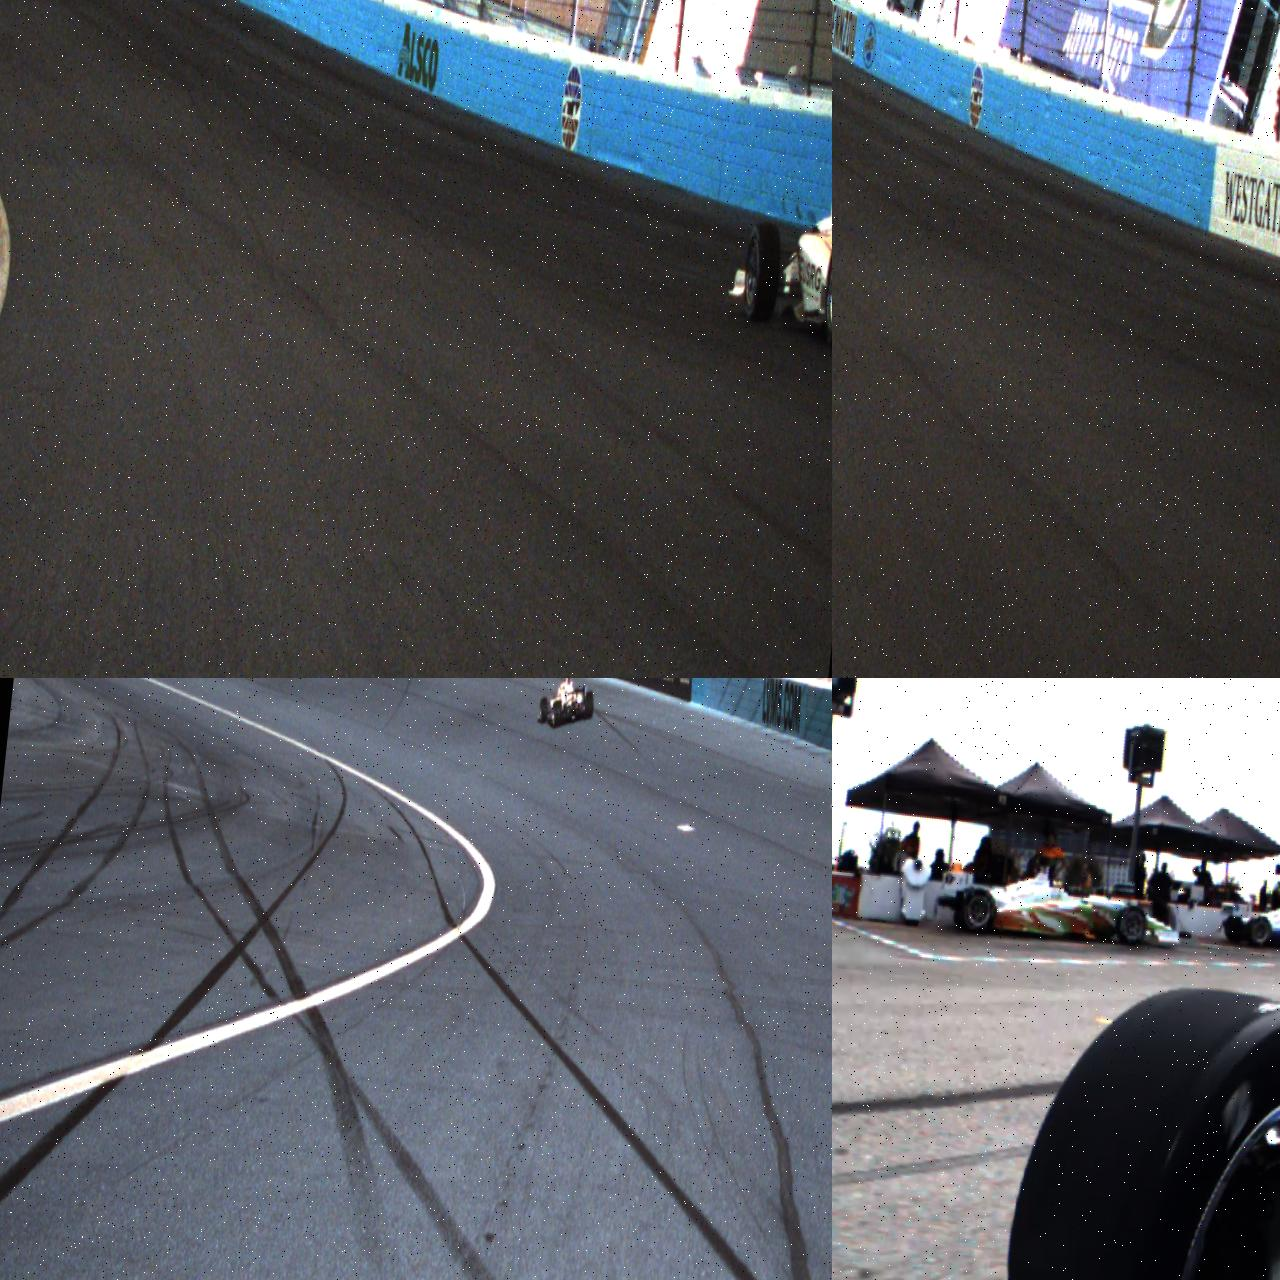AV: (937, 845, 1187, 959), (724, 111, 832, 350), (1221, 885, 1280, 962), (536, 678, 597, 731)
Wheel: (981, 971, 1280, 1280), (738, 220, 784, 325), (953, 887, 998, 938), (1116, 903, 1149, 948), (821, 230, 832, 350), (1246, 915, 1273, 949), (1223, 914, 1242, 946), (583, 690, 595, 719), (551, 701, 563, 728), (538, 697, 549, 723)
